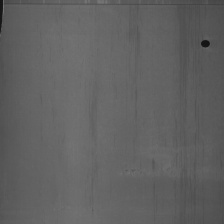inclusion: (174, 6, 198, 207), (4, 0, 224, 8), (200, 36, 212, 51), (0, 0, 4, 42)
